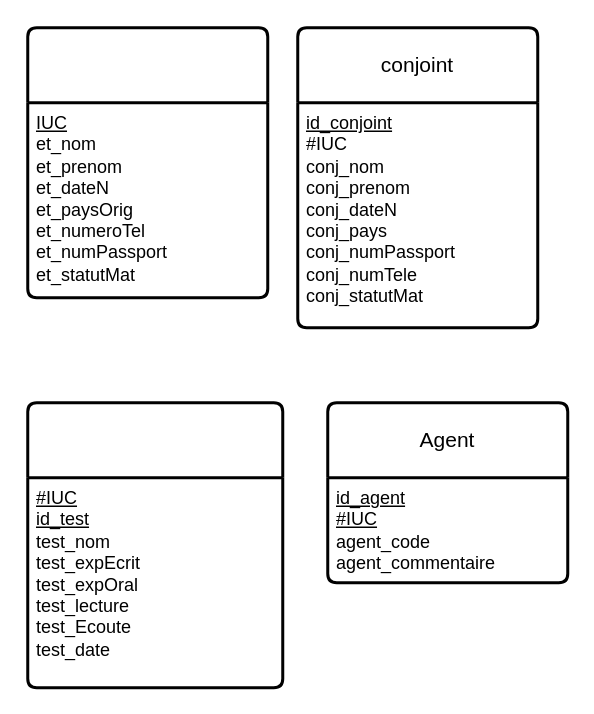
The diagram is 594 pixels wide and 714 high, and some of its shapes have lost their labels. The box of each missing label's shape, as (x1, y1, x2, y2) in pixels:
etudiant: (26, 26, 268, 298)
Testlangue: (26, 400, 284, 688)
